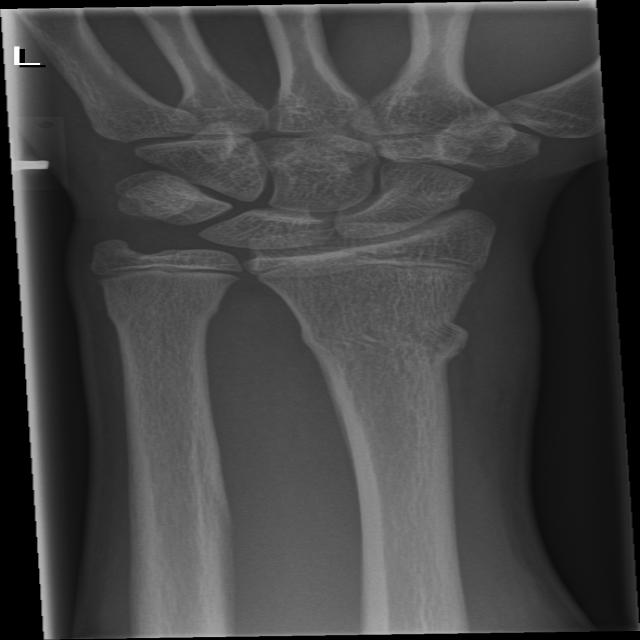radius fracture: (250, 276, 538, 425)
